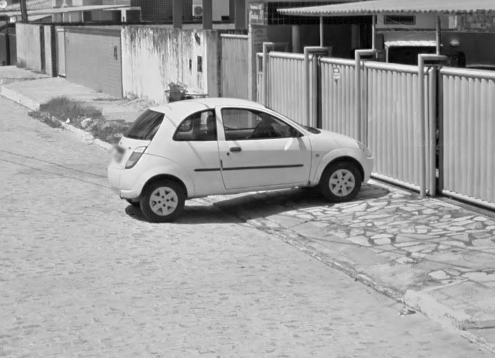car: (104, 95, 375, 223)
